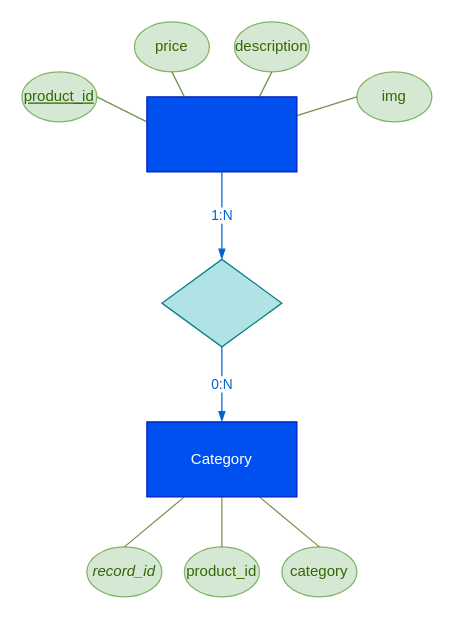
Some shapes in this 454 by 619 pixel diagram are drawn without their labels. The shapes that lost their labels are listed below. From the top down, each one's centre as x and y in pixels, then its label:
At (x=221, y=134): "Picture".
At (x=221, y=302): "has".
